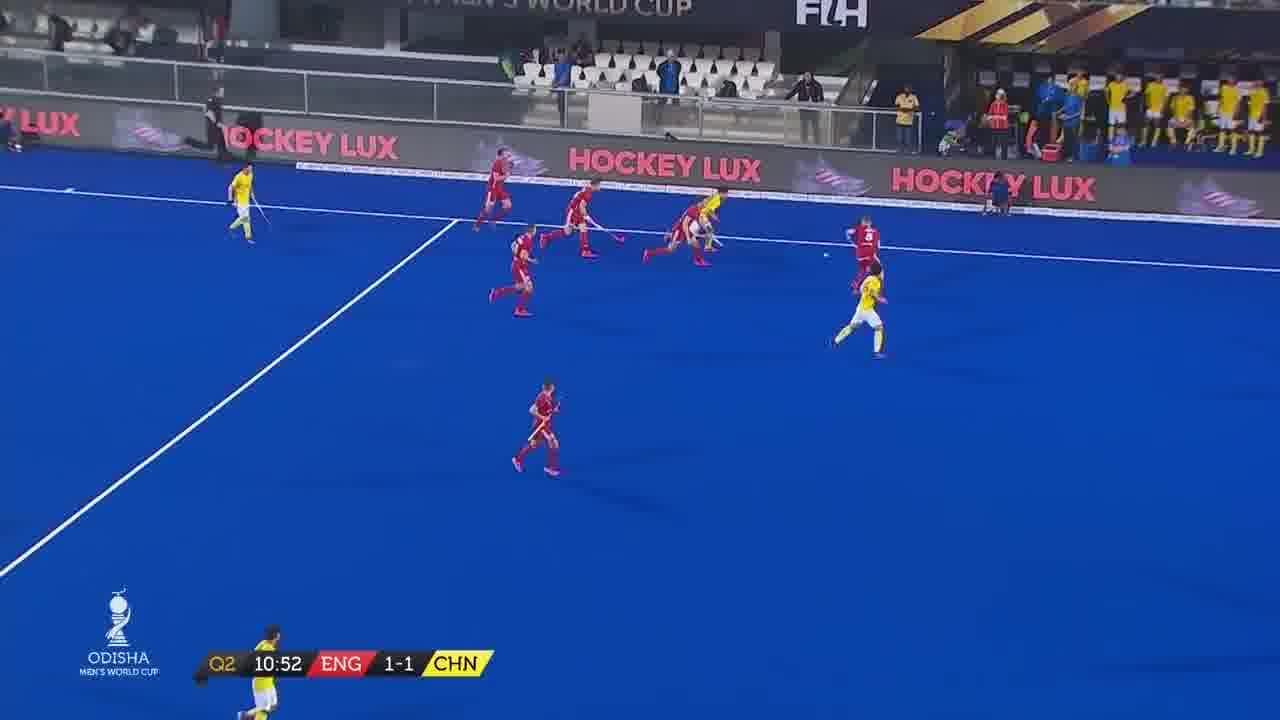ball: (820, 246, 836, 262)
